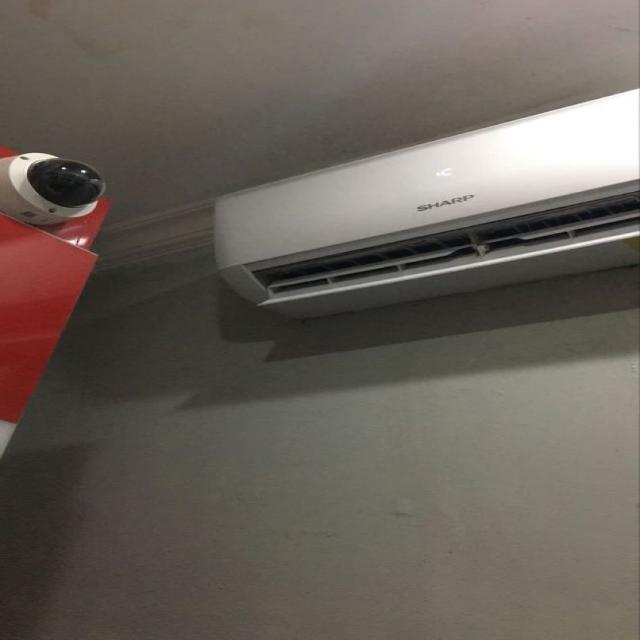AC: (212, 85, 639, 319)
